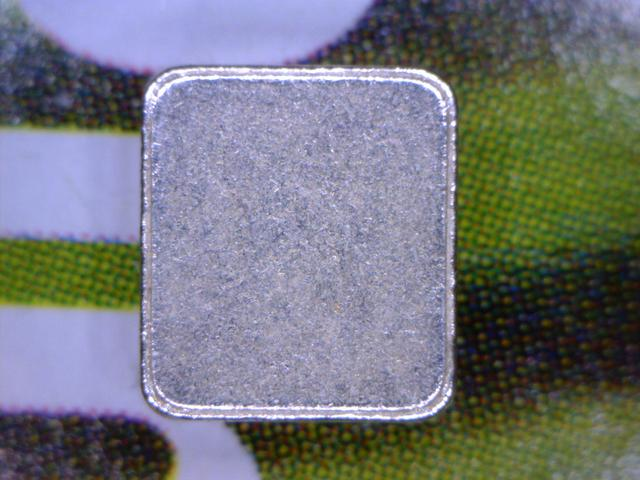nok: (135, 62, 468, 427)
